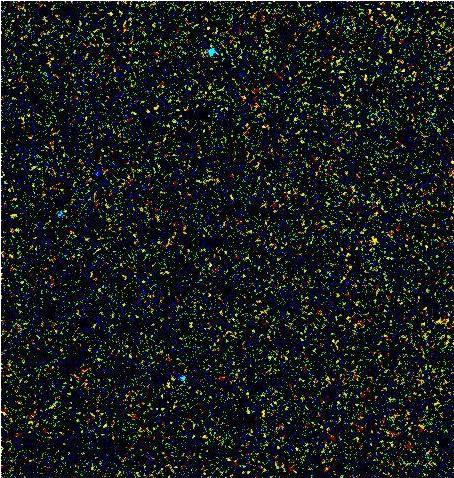star: (367, 224, 397, 254)
